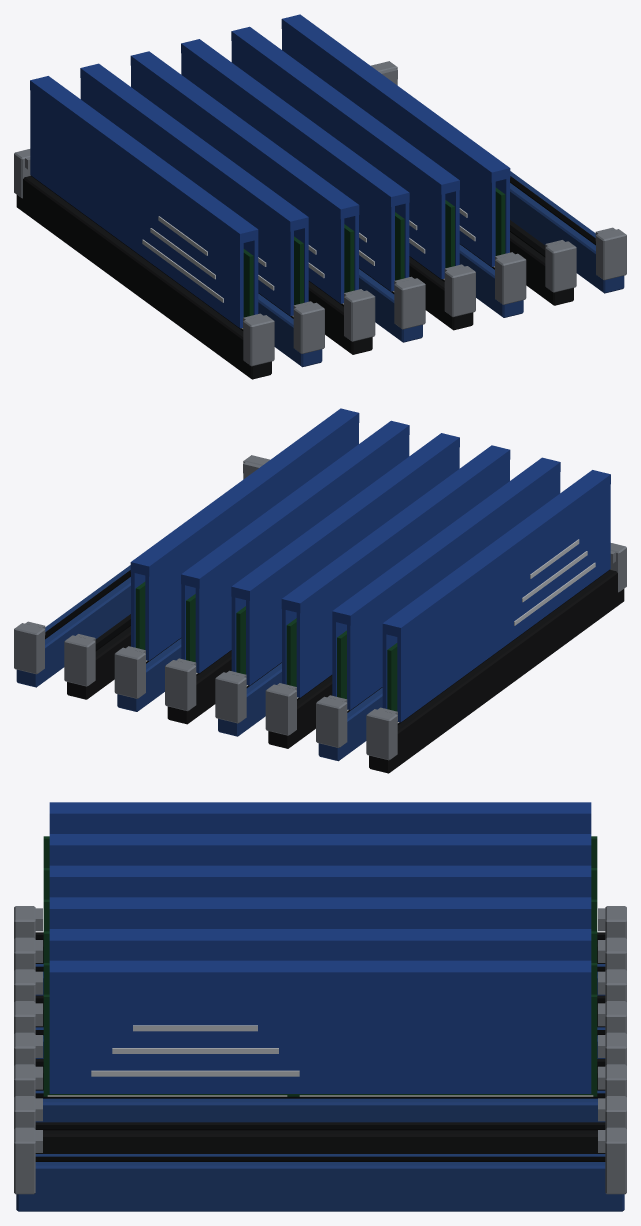
File: hwm_ram_ddr4_96gb.glb
The picture shows the model from 3 angles, top to bottom: view 1: azimuth 30°, elevation 25°; view 2: azimuth 150°, elevation 25°; view 3: azimuth 270°, elevation 25°; orthographic projection. The views are drawn at different scales.
Visible parts, largest first — view 1: Stick_0, Slots, Stick_4, Stick_3, Stick_1, Stick_2, Stick_5, Latch_1_1, Latch_6_1, Latch_3_1, Latch_2_1, Latch_4_1 (+4 smaller); view 2: Stick_0, Slots, Stick_4, Stick_3, Stick_1, Stick_2, Stick_5, Latch_1_0, Latch_6_0, Latch_3_0, Latch_2_0, Latch_4_0 (+4 smaller); view 3: Stick_5, Slots, Stick_2, Stick_0, Stick_1, Stick_3, Stick_4, Latch_7_0, Latch_7_1, Latch_1_0, Latch_1_1, Latch_4_0 (+11 smaller).
Boxes of the visible parts, x1,y1,x2,y2 form: Stick_0: (30,76,258,328); Slots: (16,171,624,379); Stick_4: (231,26,459,279); Stick_3: (181,39,409,292); Stick_1: (80,63,308,316); Stick_2: (130,51,359,304); Stick_5: (281,14,510,267); Latch_1_1: (293,301,324,353); Latch_6_1: (545,240,576,292); Latch_3_1: (394,276,425,329); Latch_2_1: (344,289,375,341); Latch_4_1: (444,264,475,317); Stick_0: (382,470,610,722); Slots: (16,565,624,773); Stick_4: (181,420,409,673); Stick_3: (231,433,459,686); Stick_1: (332,457,560,710); Stick_2: (281,445,510,698); Stick_5: (130,408,359,661); Latch_1_0: (316,695,347,747); Latch_6_0: (64,634,95,686); Latch_3_0: (215,670,246,723); Latch_2_0: (265,683,296,735); Latch_4_0: (165,658,196,711); Stick_5: (43,960,597,1096); Slots: (16,932,624,1211); Stick_2: (43,865,597,931); Stick_0: (43,802,597,867); Stick_1: (43,834,597,899); Stick_3: (43,897,597,962); Stick_4: (43,929,597,994); Latch_7_0: (598,1127,626,1194); Latch_7_1: (14,1127,42,1194); Latch_1_0: (598,937,626,970); Latch_1_1: (14,937,42,970); Latch_4_0: (598,1032,626,1065).
Size of the model in its own units: 0.1346 by 0.0467 by 0.1472.
